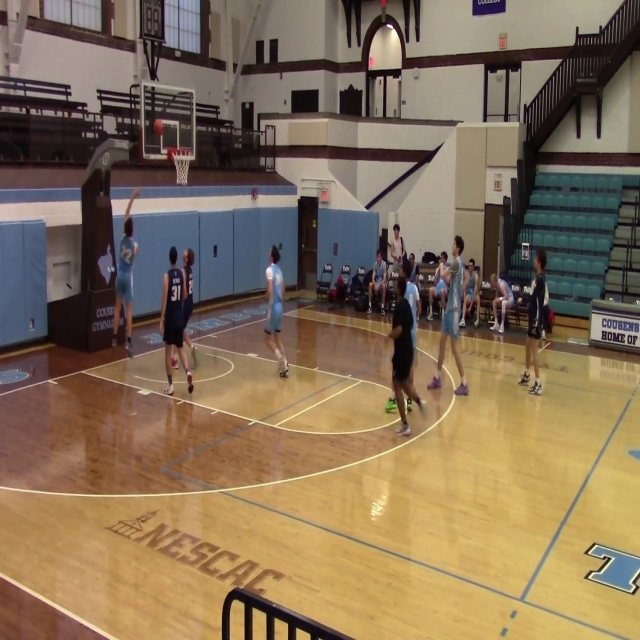Basketball: (152, 119, 165, 135), (183, 248, 194, 264)
